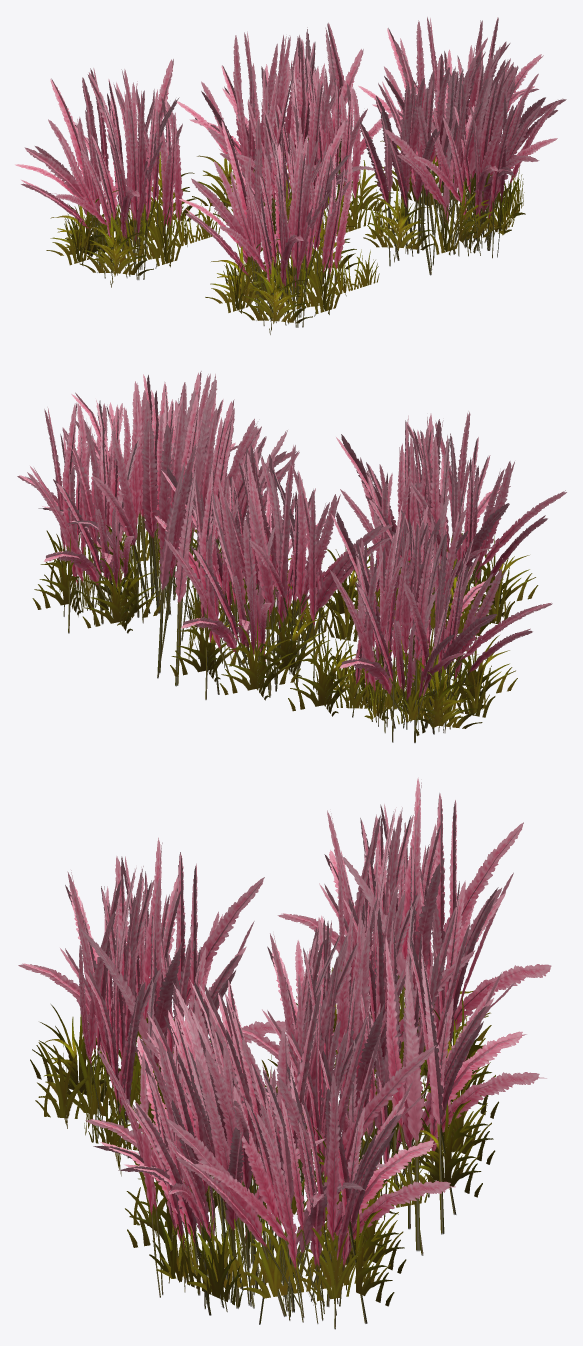
The model's file is Fall_PinkMuhly_00.FBX.
3 renders of one model, top to bottom at view 1: azimuth 30°, elevation 25°; view 2: azimuth 150°, elevation 25°; view 3: azimuth 270°, elevation 25°, orthographic. The views are drawn at different scales.
Parts seen in each view (by area): view 1: Fall_PinkMuhly_00; view 2: Fall_PinkMuhly_00; view 3: Fall_PinkMuhly_00.
Part boxes in pixels (left/top/right/bottom): Fall_PinkMuhly_00: left=15, top=17, right=566, bottom=334; Fall_PinkMuhly_00: left=17, top=371, right=566, bottom=743; Fall_PinkMuhly_00: left=18, top=777, right=551, bottom=1329.
Size of the model in its own units: 590 by 273 by 393.
